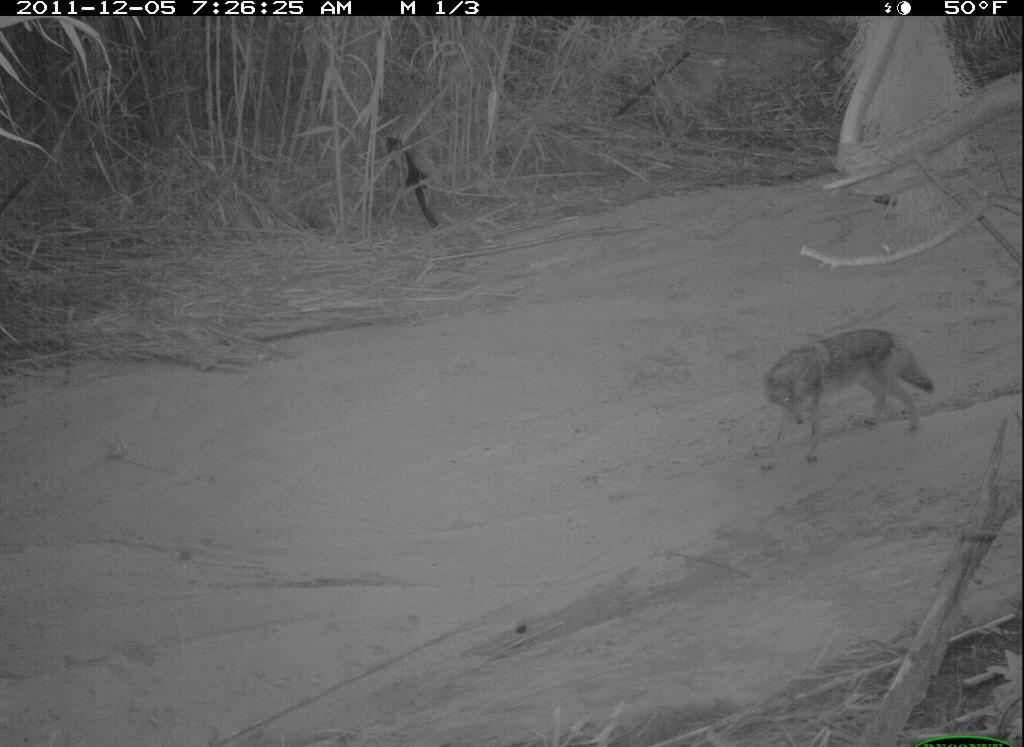coyote: (754, 322, 940, 473)
